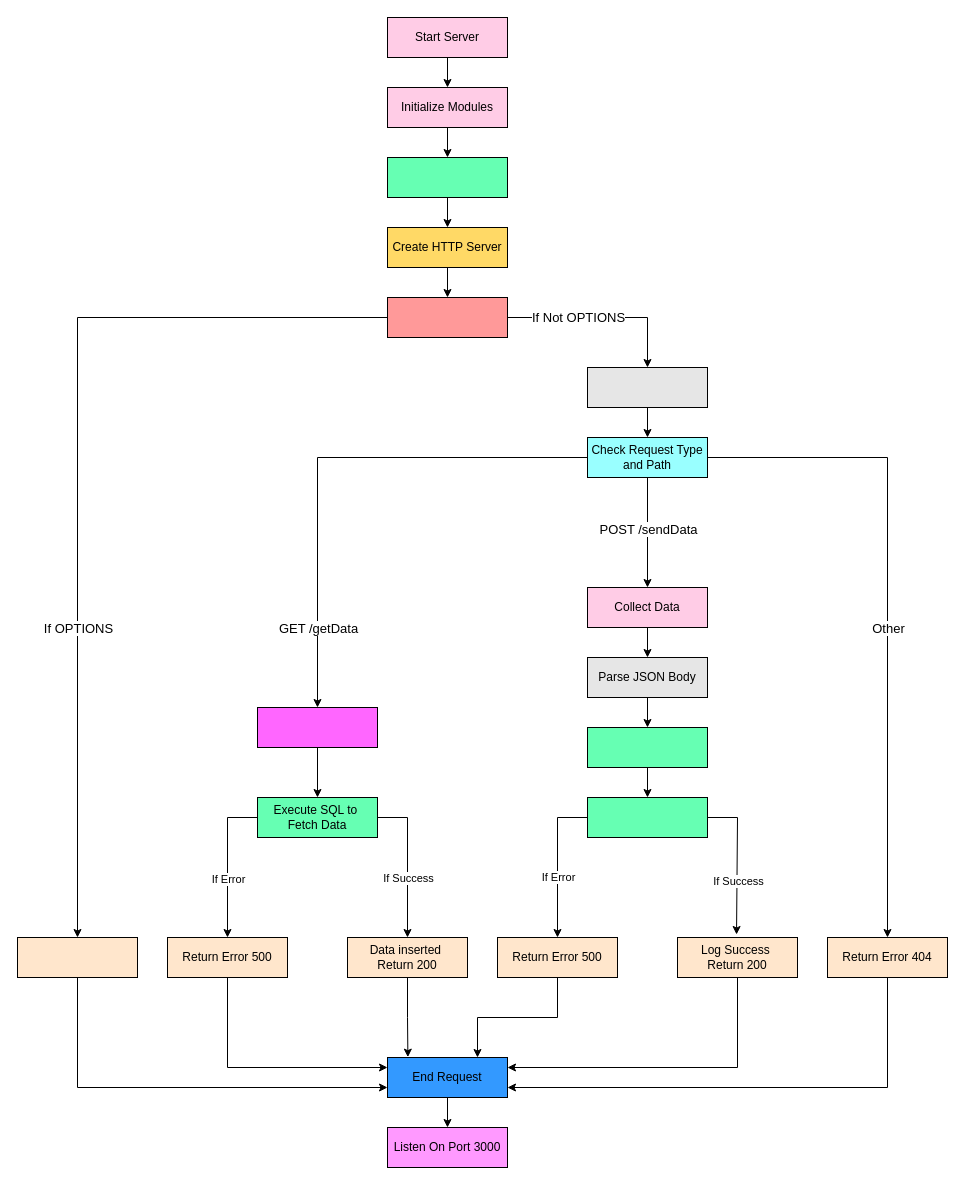
This 965x1185 diagram has some shape labels left out. Here are the shapes that lost their labels. From the top down, the box of each, then its label:
(386, 156, 508, 198): Create Database Connections
(386, 296, 508, 338): Handle OPTIONS Request
(586, 366, 708, 408): Parse URL
(256, 706, 378, 748): Log Request
(586, 726, 708, 768): Prepare SQL Query
(586, 796, 708, 838): Execute Insert Query
(16, 936, 138, 978): No Content Return 204
